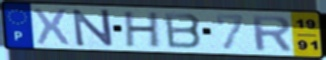7: (214, 13, 246, 52)
B: (162, 11, 205, 50)
H: (124, 11, 162, 49)
N: (71, 9, 116, 48)
R: (248, 14, 294, 52)
X: (32, 6, 72, 47)
